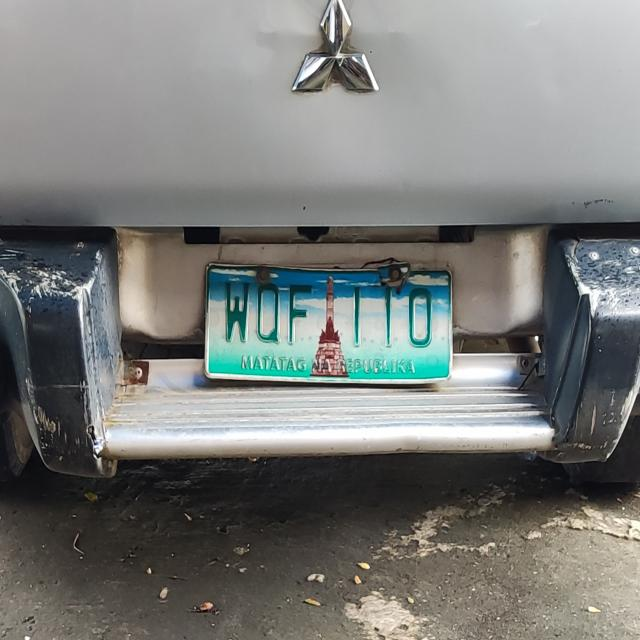plate: (202, 256, 456, 387)
